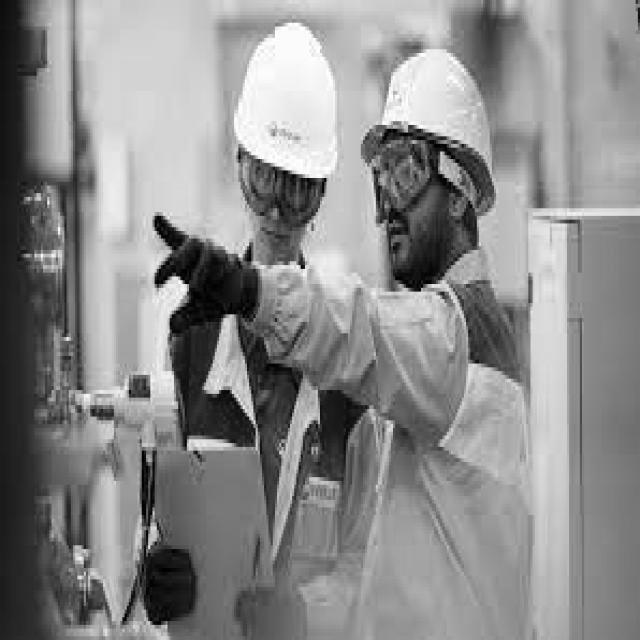construction helmet: (384, 61, 503, 212), (232, 23, 339, 186)
